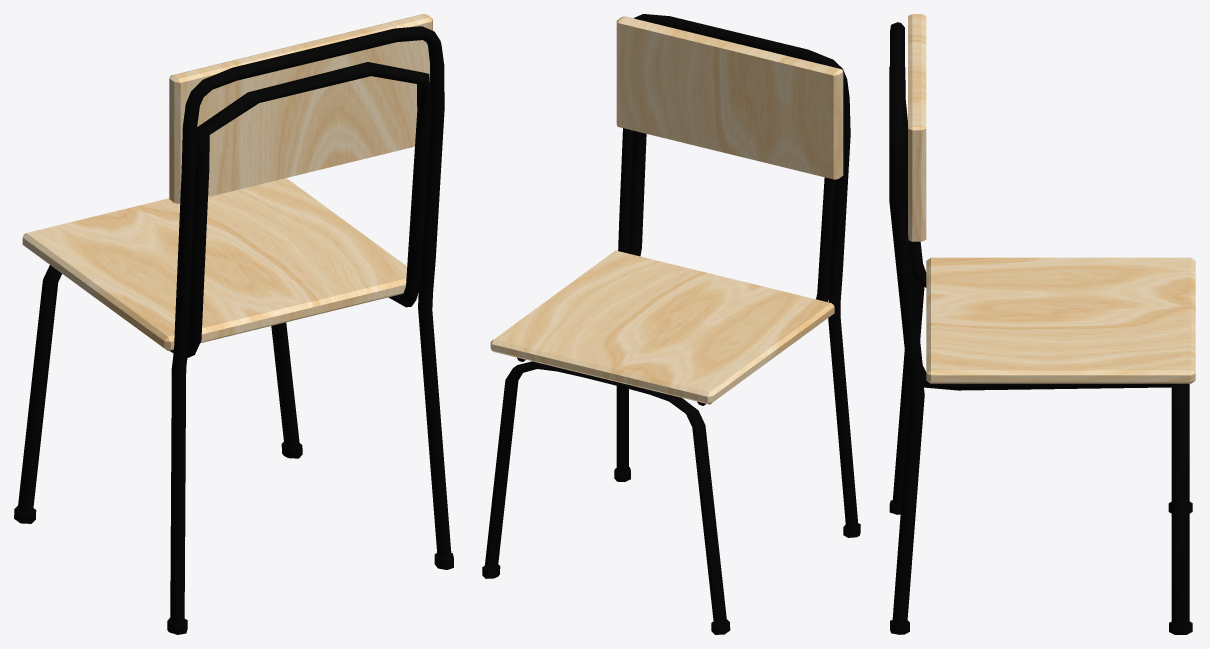
The model's file is SCH0110023.fbx.
3 views of the same model, side by side, from view 1: azimuth 30°, elevation 25°; view 2: azimuth 150°, elevation 25°; view 3: azimuth 270°, elevation 25° (orthographic). The views are drawn at different scales.
Parts seen in each view (by area): view 1: smSCH0110023; view 2: smSCH0110023; view 3: smSCH0110023.
Part boxes in pixels (x1=…): smSCH0110023: x1=14, y1=14, x2=453, y2=634; smSCH0110023: x1=482, y1=14, x2=860, y2=634; smSCH0110023: x1=889, y1=14, x2=1195, y2=634.
Bounding box in the file's own units: 60.96 × 113 × 62.04.
1 material, 1 textured.
